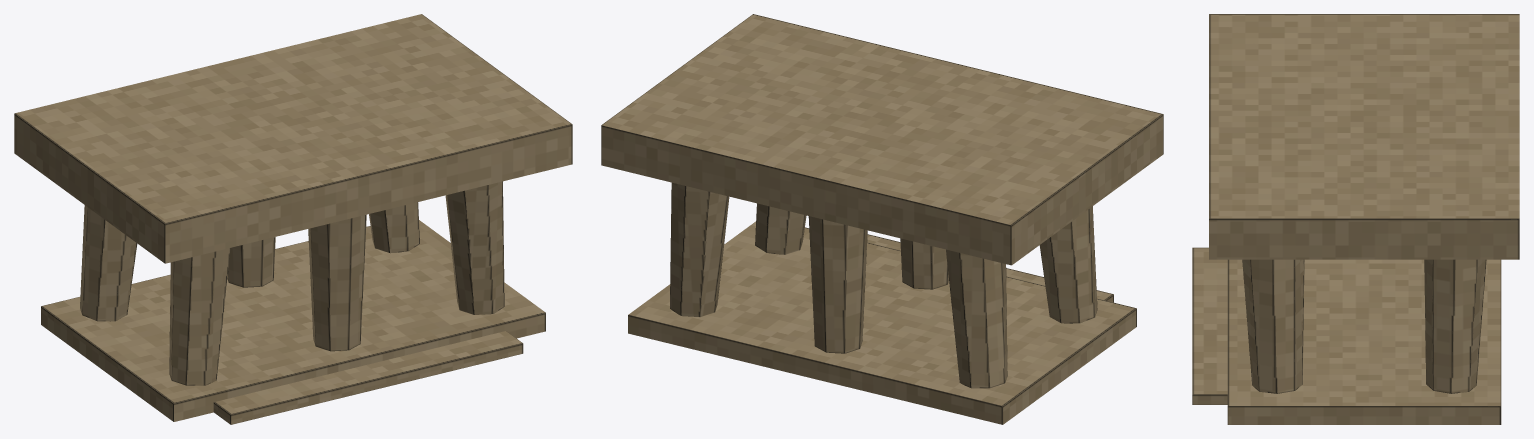
File: cleanstreets_toll_pavilion_structure.obj
3 views of the same model, side by side, from view 1: azimuth 30°, elevation 25°; view 2: azimuth 150°, elevation 25°; view 3: azimuth 270°, elevation 25° (orthographic). The views are drawn at different scales.
Size of the model in its own units: 9.2 by 4.51 by 6.22.
Materials: 1 (1 with a texture image).
